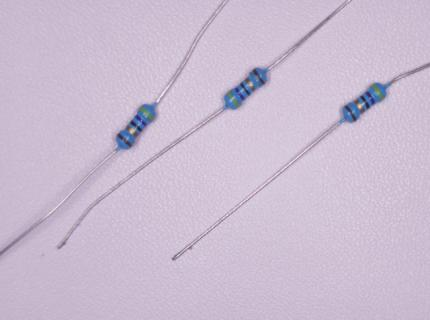Gold band: (352, 98, 366, 114), (244, 77, 257, 92), (125, 125, 139, 138)
Violet band: (134, 113, 149, 128), (234, 86, 246, 101), (364, 90, 376, 105)
Yellow band: (226, 90, 241, 109), (371, 83, 386, 101), (139, 105, 155, 121)
